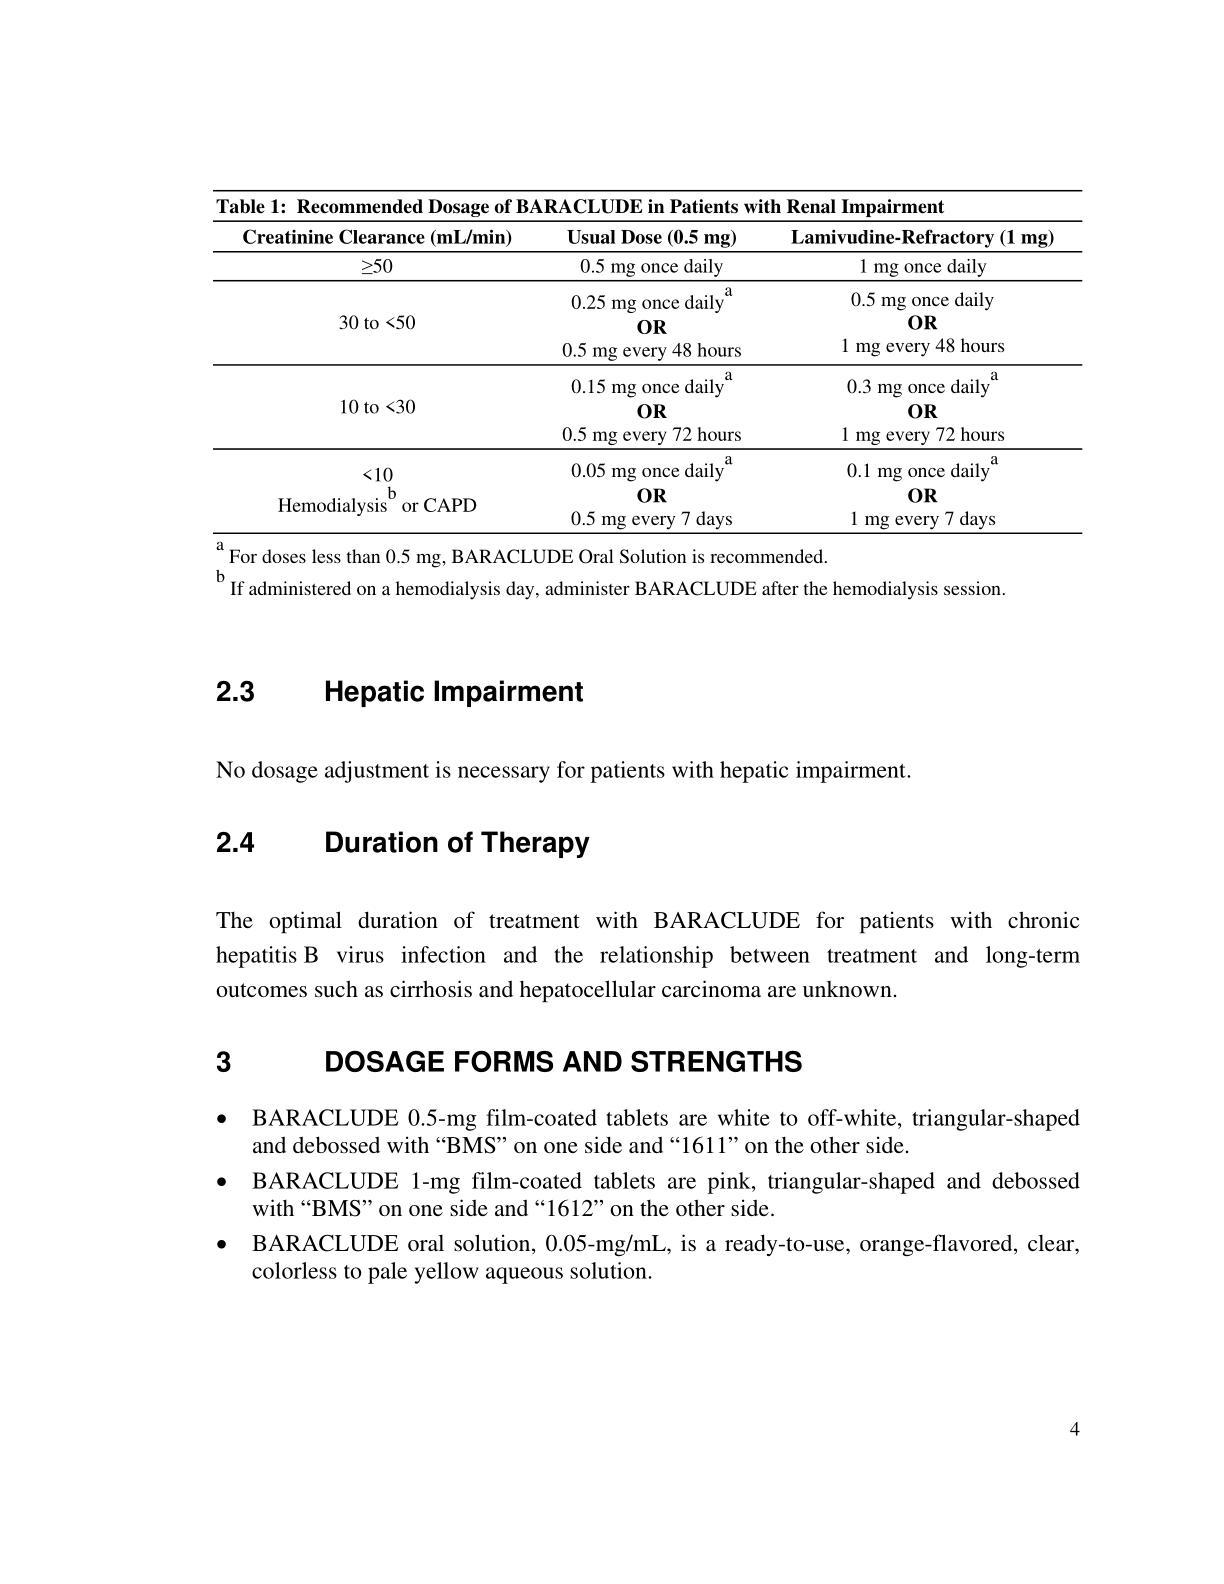partial_lined_merged_cells: (211, 188, 1084, 535)
